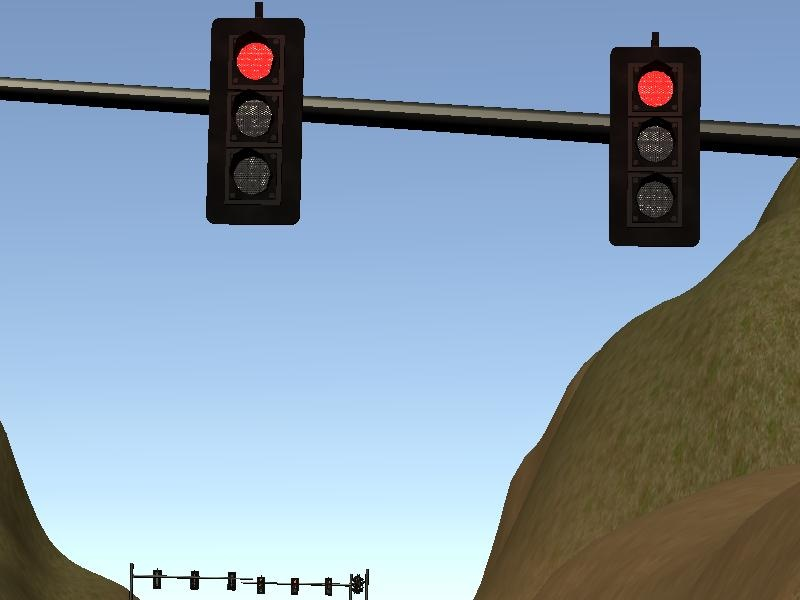red: (593, 27, 711, 257), (198, 12, 314, 233)
